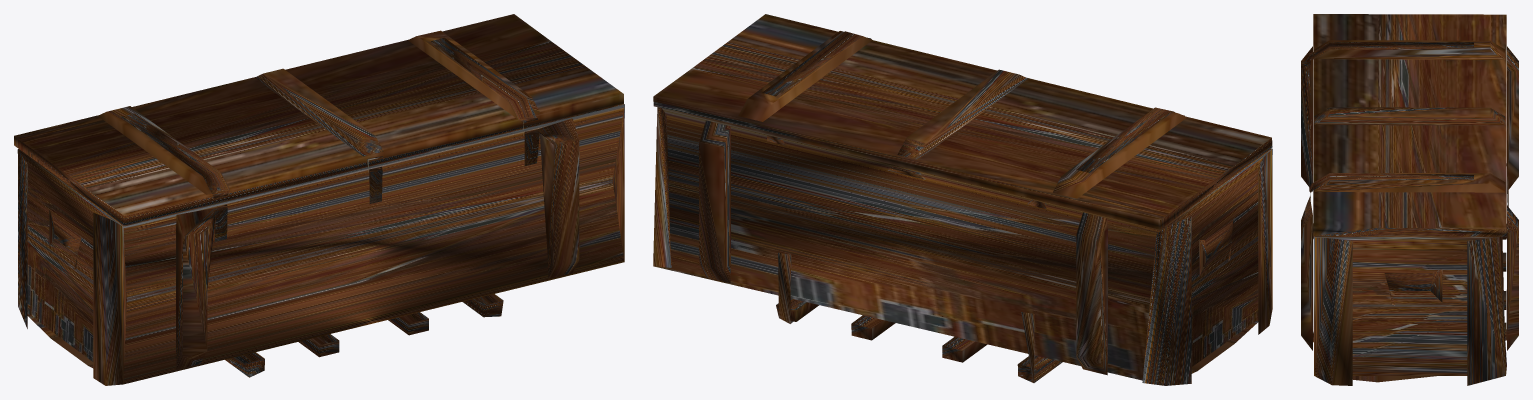
The model's file is wooden_military_crate_lod1.glb.
3 renders of one model, left to right at view 1: azimuth 30°, elevation 25°; view 2: azimuth 150°, elevation 25°; view 3: azimuth 270°, elevation 25°, orthographic. The views are drawn at different scales.
Visible parts, largest first — view 1: wooden_military_crate, wooden_military_crate_lid; view 2: wooden_military_crate, wooden_military_crate_lid; view 3: wooden_military_crate_lid, wooden_military_crate.
Boxes of the visible parts, x1=… form: wooden_military_crate: x1=17, y1=104, x2=624, y2=385; wooden_military_crate_lid: x1=14, y1=14, x2=623, y2=225; wooden_military_crate: x1=653, y1=107, x2=1272, y2=385; wooden_military_crate_lid: x1=653, y1=14, x2=1272, y2=229; wooden_military_crate_lid: x1=1309, y1=14, x2=1506, y2=236; wooden_military_crate: x1=1301, y1=46, x2=1518, y2=385.
Size of the model in its own units: 1.24 by 0.4641 by 0.5158.
Materials: 1 (1 with a texture image).
